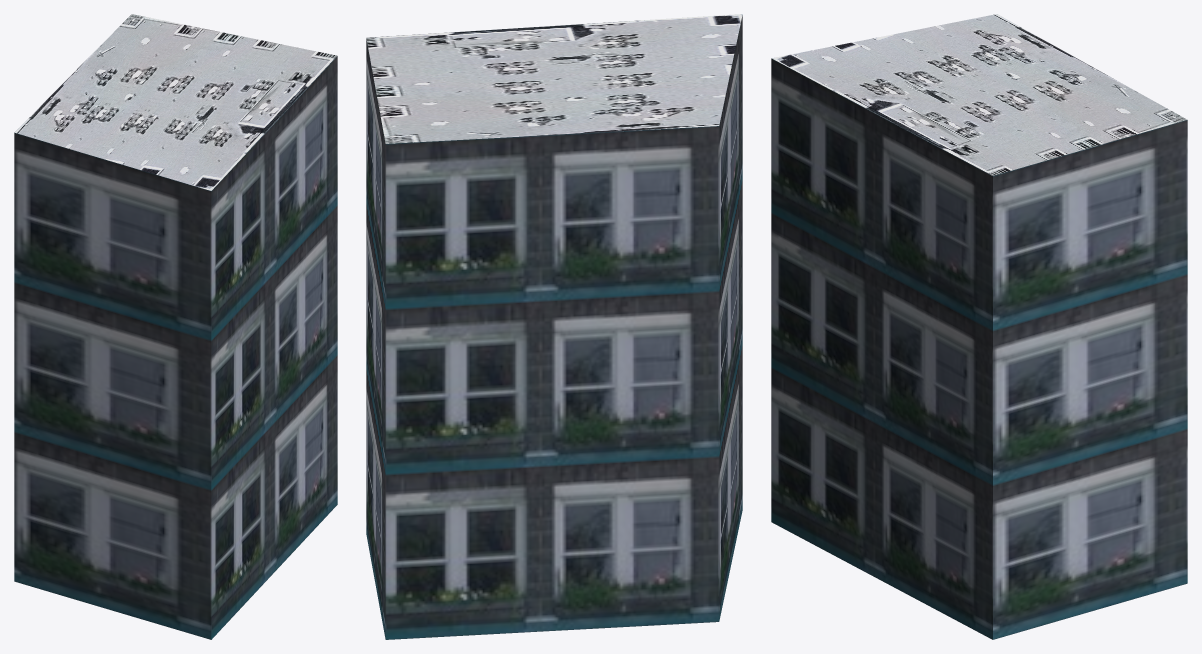
Rendered from ResTex__3492.fbx.
3 renders of one model, left to right at view 1: azimuth 30°, elevation 25°; view 2: azimuth 150°, elevation 25°; view 3: azimuth 270°, elevation 25°, orthographic. The views are drawn at different scales.
Visible parts, largest first — view 1: CityEngineMaterial_11_m, CityEngineMaterial_8_m; view 2: CityEngineMaterial_11_m, CityEngineMaterial_8_m; view 3: CityEngineMaterial_11_m, CityEngineMaterial_8_m.
Part boxes in pixels (x1,y1,x2,y2): CityEngineMaterial_11_m: (14, 56, 337, 639); CityEngineMaterial_8_m: (14, 14, 337, 190); CityEngineMaterial_11_m: (366, 15, 742, 639); CityEngineMaterial_8_m: (366, 14, 742, 143); CityEngineMaterial_11_m: (771, 58, 1187, 639); CityEngineMaterial_8_m: (772, 14, 1186, 175).
Bounding box in the file's own units: 6.75 × 9 × 7.32.
2 materials, 2 textured.
